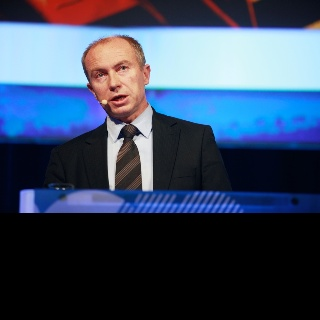without_mask: (87, 42, 145, 120)
